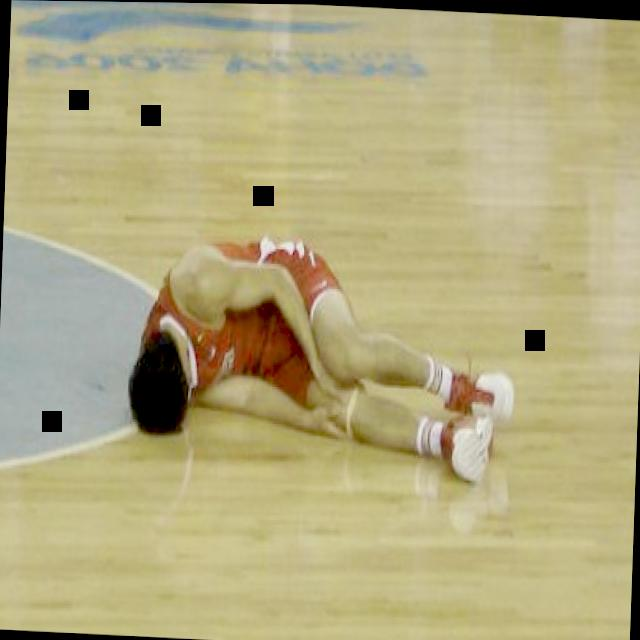Fall-Detected: (126, 197, 524, 481)
